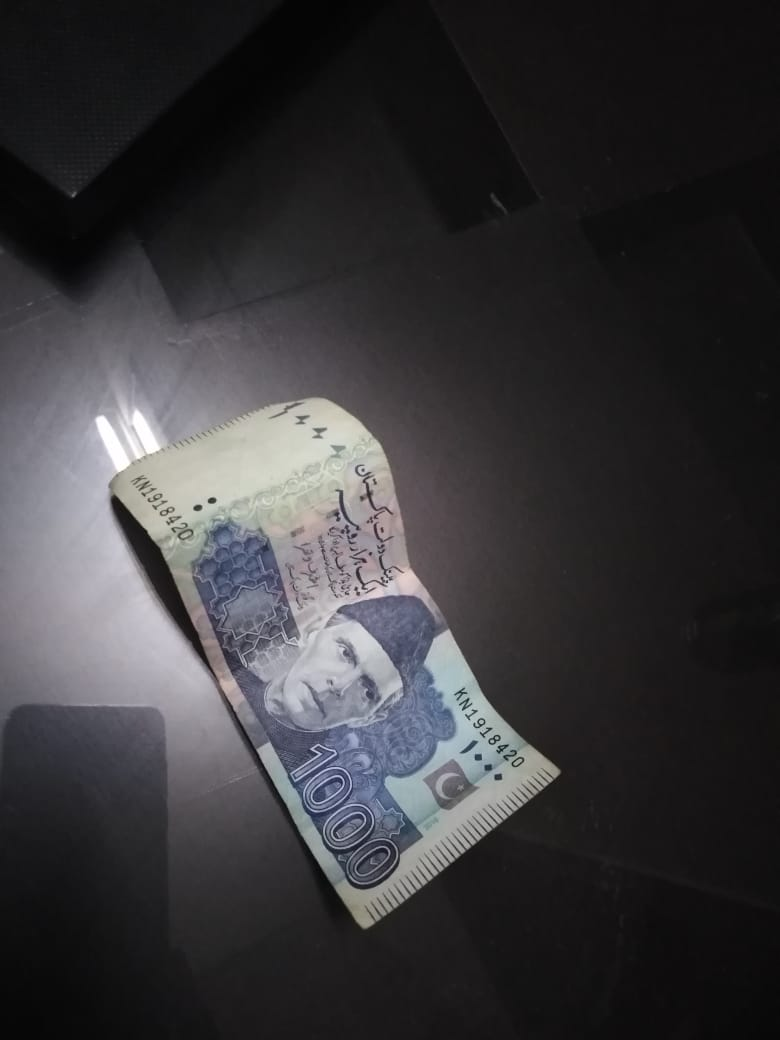1000 rupee: (131, 396, 605, 951)
